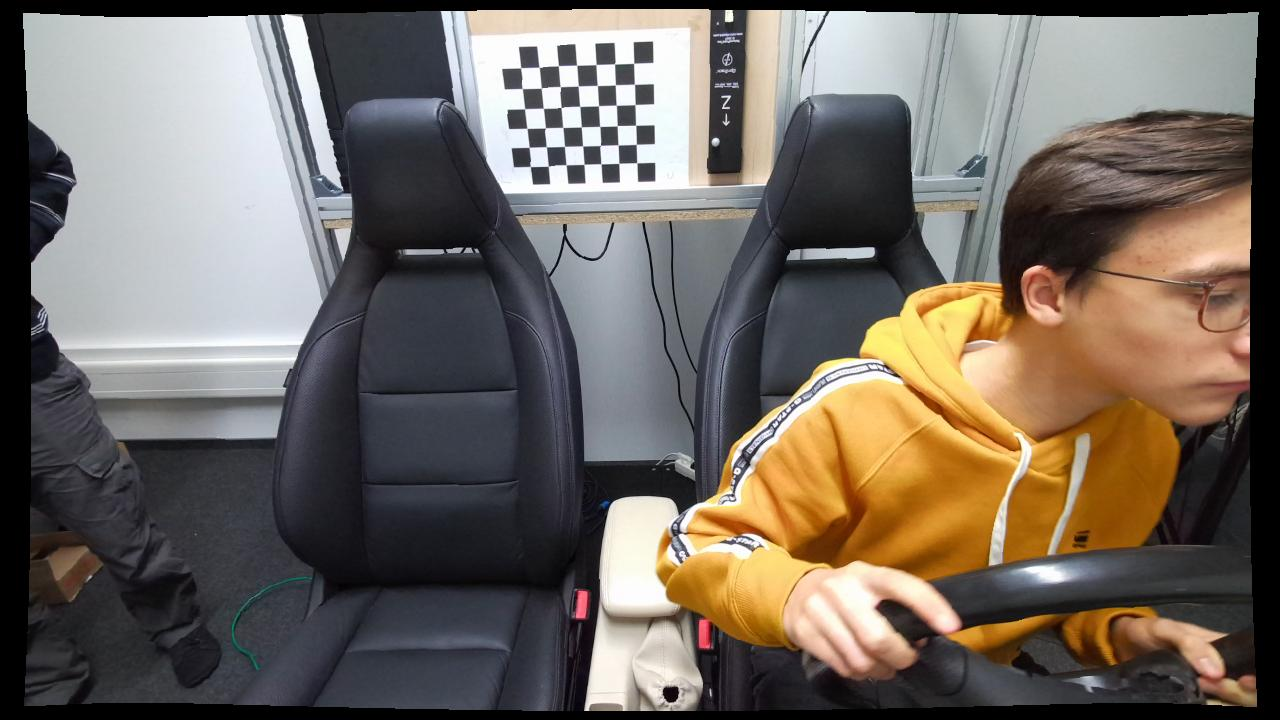Distracted: (649, 111, 1256, 718)
